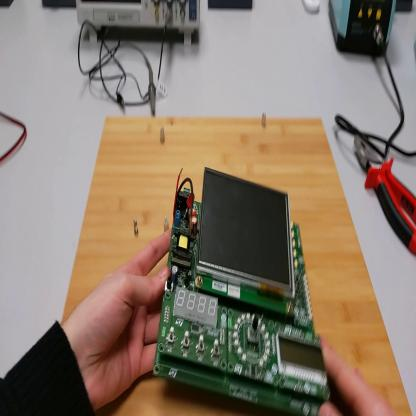hand: (63, 227, 180, 410), (316, 335, 399, 416)
low voltage board: (151, 168, 330, 414)
oscilloscope: (77, 3, 204, 48)
oscilloscope probe tip: (149, 69, 157, 118)
pliers: (353, 133, 415, 254)
socket: (397, 1, 413, 16)
welder station: (329, 1, 398, 59)
working area: (63, 121, 412, 415)
